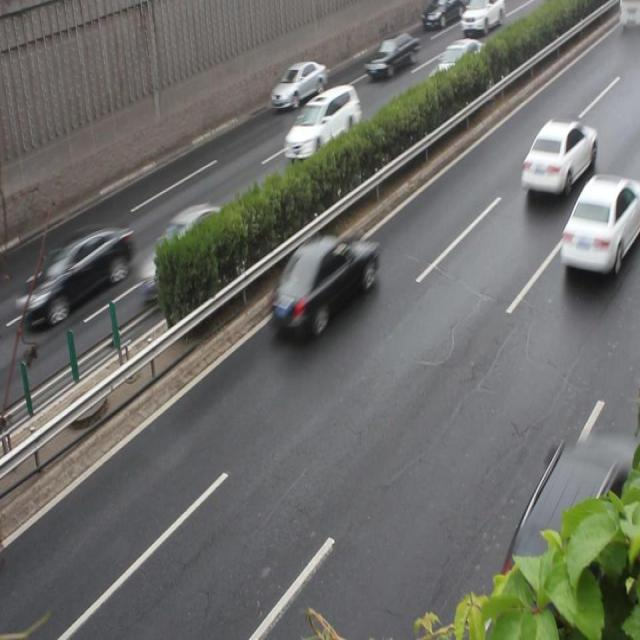car: (503, 437, 640, 606), (271, 233, 376, 338), (29, 228, 135, 322), (559, 173, 640, 279), (150, 207, 239, 287), (519, 120, 597, 198), (284, 88, 363, 159)
